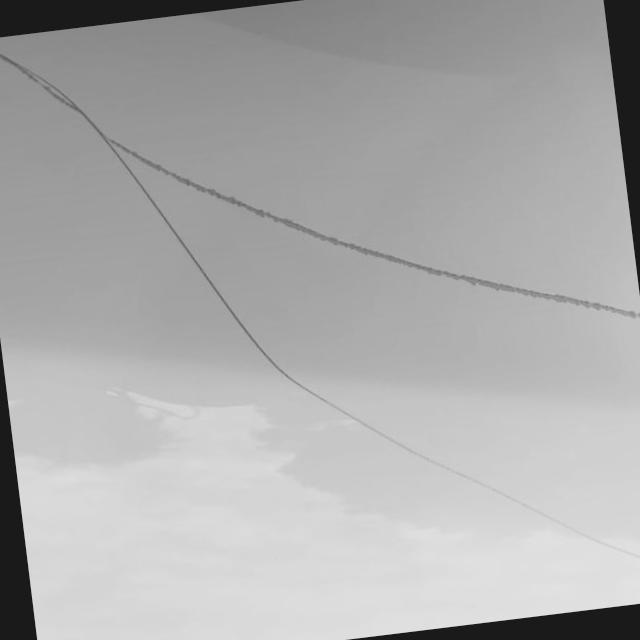crack: (184, 221, 586, 608), (185, 125, 602, 362)
